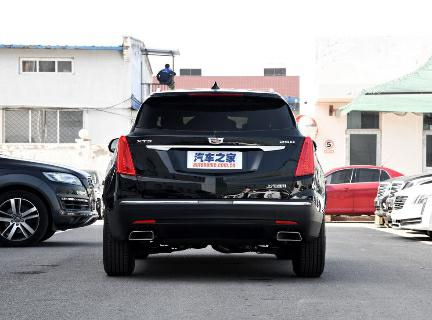凯迪拉克-XT5: (97, 84, 336, 284)
